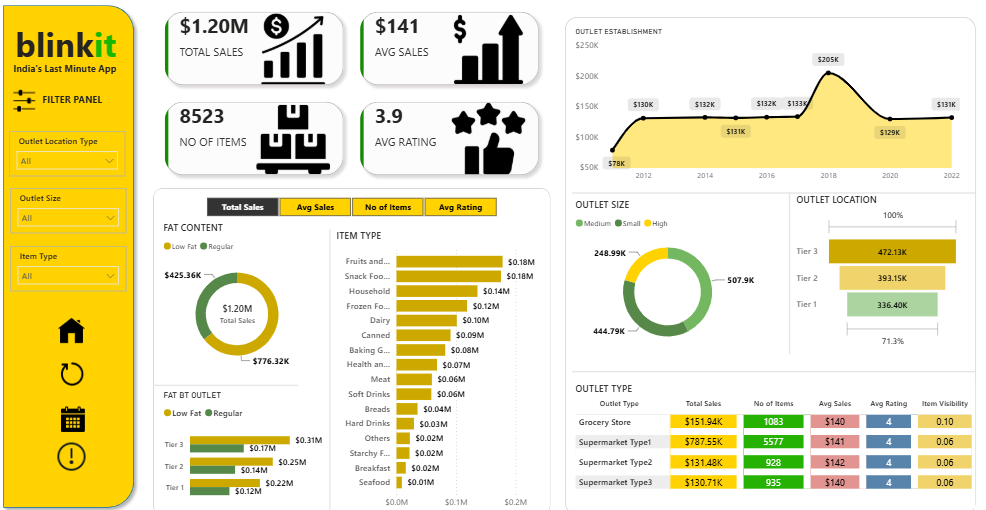

This screenshot's page, from the dashboard's own definition file:
{"tool":"powerbi","page":{"name":"Page 1","canvas":[1450,800],"ordinal":0},"visuals":[{"type":"shape","box":[17.1,60.9,205.5,738.3],"z":0},{"type":"textbox","box":[28.3,86.6,174.8,94.5],"z":1000},{"type":"textbox","box":[36.2,146.5,166.9,34.6],"z":2000},{"type":"cardVisual","fields":{"Data":["BlinkIT Grocery Data.Total Sales","BlinkIT Grocery Data.Avg Sales","BlinkIT Grocery Data.No  of Items","BlinkIT Grocery Data.Avg Rating"]},"box":[240.9,61.4,570.1,269.3],"z":3000},{"type":"shape","box":[240.9,330.7,570.1,469.3],"z":4000},{"type":"donutChart","title":"FAT CONTENT","fields":{"Y":["BlinkIT Grocery Data.Total Sales"],"Category":["BlinkIT Grocery Data.Item Fat Content"]},"box":[251.2,378.7,220.7,222.6],"z":5000},{"type":"slicer","fields":{"Values":["Metrics.Metrics"]},"box":[292.9,338.6,464.6,39.4],"z":6000},{"type":"cardVisual","fields":{"Data":["BlinkIT Grocery Data.Total Sales"]},"box":[300.8,480.3,122.8,61.4],"z":7000},{"type":"clusteredBarChart","title":"FAT BT OUTLET","fields":{"Y":["BlinkIT Grocery Data.Total Sales"],"Category":["BlinkIT Grocery Data.Outlet Location Type"],"Series":["BlinkIT Grocery Data.Item Fat Content"]},"box":[251.2,620.3,237.9,169.4],"z":8000},{"type":"shape","box":[240.9,607.9,207.9,12.6],"z":9000},{"type":"shape","box":[488.2,390.6,11,409.4],"z":10000},{"type":"barChart","title":"ITEM TYPE","fields":{"Y":["BlinkIT Grocery Data.Total Sales"],"Category":["BlinkIT Grocery Data.Item Type"]},"box":[499.2,390.6,311.8,409.4],"z":11000},{"type":"shape","box":[831.1,85.7,588.9,713.7],"z":12000},{"type":"lineChart","title":"OUTLET ESTABLISHMENT","fields":{"Category":["BlinkIT Grocery Data.Outlet Establishment Year"],"Y":["BlinkIT Grocery Data.Total Sales"]},"box":[841.1,100.9,561.4,230.2],"z":13000},{"type":"shape","box":[841.1,333,578.5,11.4],"z":14000},{"type":"donutChart","title":"OUTLET SIZE","fields":{"Y":["Sum(BlinkIT Grocery Data.Sales)"],"Category":["BlinkIT Grocery Data.Outlet Size"]},"box":[840.9,344.9,274,225],"z":15000},{"type":"shape","box":[1146.5,338.1,12.9,231.5],"z":16000},{"type":"funnel","title":"OUTLET LOCATION","fields":{"Y":["Sum(BlinkIT Grocery Data.Sales)"],"Category":["BlinkIT Grocery Data.Outlet Location Type"]},"box":[1158.9,338.7,243.6,226.4],"z":17000},{"type":"shape","box":[841.1,588,578.5,13.3],"z":18000},{"type":"pivotTable","title":"OUTLET TYPE","fields":{"Rows":["BlinkIT Grocery Data.Outlet Type"],"Values":["BlinkIT Grocery Data.Total Sales","BlinkIT Grocery Data.No  of Items","BlinkIT Grocery Data.Avg Sales","BlinkIT Grocery Data.Avg Rating","Avg(BlinkIT Grocery Data.Item Visibility)"]},"box":[841.1,608.9,578.5,180.8],"z":19000},{"type":"slicer","fields":{"Values":["BlinkIT Grocery Data.Outlet Location Type"]},"box":[34.3,249.3,167.5,64.7],"z":20000},{"type":"slicer","fields":{"Values":["BlinkIT Grocery Data.Outlet Size"]},"box":[36.2,331.1,167.5,64.7],"z":21000},{"type":"slicer","fields":{"Values":["BlinkIT Grocery Data.Item Type"]},"box":[36.2,414.8,167.5,64.7],"z":22000},{"type":"image","box":[97,511.9,53.3,49.5],"z":23000},{"type":"image","box":[97,574.7,55.2,45.7],"z":24000},{"type":"image","box":[97,639.4,57.1,47.6],"z":25000},{"type":"image","box":[97,686.9,53.3,59],"z":26000},{"type":"image","box":[34.3,182.7,43.8,47.6],"z":27000},{"type":"textbox","box":[78,190.3,167.5,34.3],"z":28000}]}

Visuals, with their boxes on the page's 1450x800 design canvas (x1, y1, x2, y2). These are canvas units, not pixel positions in the 986x510 screenshot, which may show the page scaled, cropped or inside an application window:
shape: {"left": 17, "top": 61, "right": 223, "bottom": 799}
textbox: {"left": 28, "top": 87, "right": 203, "bottom": 181}
textbox: {"left": 36, "top": 146, "right": 203, "bottom": 181}
cardVisual - BlinkIT Grocery Data.Total Sales x BlinkIT Grocery Data.Avg Sales: {"left": 241, "top": 61, "right": 811, "bottom": 331}
shape: {"left": 241, "top": 331, "right": 811, "bottom": 800}
"FAT CONTENT" donutChart: {"left": 251, "top": 379, "right": 472, "bottom": 601}
slicer - Metrics.Metrics: {"left": 293, "top": 339, "right": 758, "bottom": 378}
cardVisual - BlinkIT Grocery Data.Total Sales: {"left": 301, "top": 480, "right": 424, "bottom": 542}
"FAT BT OUTLET" clusteredBarChart: {"left": 251, "top": 620, "right": 489, "bottom": 790}
shape: {"left": 241, "top": 608, "right": 449, "bottom": 620}
shape: {"left": 488, "top": 391, "right": 499, "bottom": 800}
"ITEM TYPE" barChart: {"left": 499, "top": 391, "right": 811, "bottom": 800}
shape: {"left": 831, "top": 86, "right": 1420, "bottom": 799}
"OUTLET ESTABLISHMENT" lineChart: {"left": 841, "top": 101, "right": 1402, "bottom": 331}
shape: {"left": 841, "top": 333, "right": 1420, "bottom": 344}
"OUTLET SIZE" donutChart: {"left": 841, "top": 345, "right": 1115, "bottom": 570}
shape: {"left": 1146, "top": 338, "right": 1159, "bottom": 570}
"OUTLET LOCATION" funnel: {"left": 1159, "top": 339, "right": 1402, "bottom": 565}
shape: {"left": 841, "top": 588, "right": 1420, "bottom": 601}
"OUTLET TYPE" pivotTable: {"left": 841, "top": 609, "right": 1420, "bottom": 790}
slicer - BlinkIT Grocery Data.Outlet Location Type: {"left": 34, "top": 249, "right": 202, "bottom": 314}
slicer - BlinkIT Grocery Data.Outlet Size: {"left": 36, "top": 331, "right": 204, "bottom": 396}
slicer - BlinkIT Grocery Data.Item Type: {"left": 36, "top": 415, "right": 204, "bottom": 480}
image: {"left": 97, "top": 512, "right": 150, "bottom": 561}
image: {"left": 97, "top": 575, "right": 152, "bottom": 620}
image: {"left": 97, "top": 639, "right": 154, "bottom": 687}
image: {"left": 97, "top": 687, "right": 150, "bottom": 746}
image: {"left": 34, "top": 183, "right": 78, "bottom": 230}
textbox: {"left": 78, "top": 190, "right": 246, "bottom": 225}
